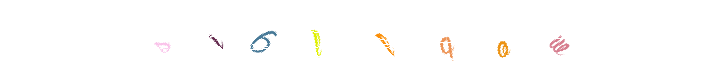6: (276, 0, 356, 80)
F: (314, 0, 394, 80), (331, 0, 411, 80)
I: (223, 0, 303, 80)
O: (412, 0, 492, 80)
Q: (402, 0, 482, 80)
S: (176, 0, 256, 80)
W: (492, 0, 572, 80)
